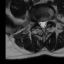CCS_normal: (41, 18, 43, 30)
LFS_stenosis: (46, 17, 49, 24)
LLS_normal: (44, 19, 46, 28)
RFS_severe_stenosis: (35, 20, 38, 25)
RLS_normal: (38, 19, 41, 27)
